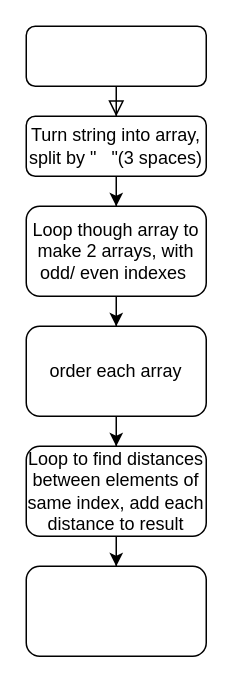
This 233x683 diagram has some shape labels left out. The centre of each missing label's shape, as x and y in pixels:
Input numbers as a string: point 115,55
print result: point 115,610
